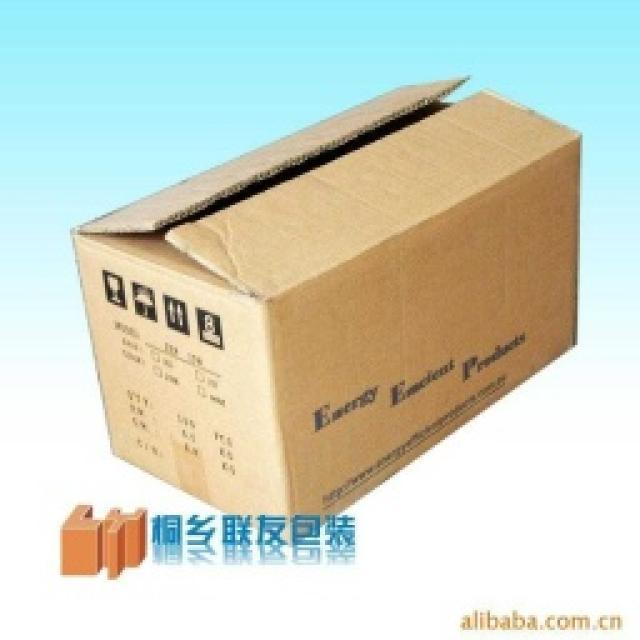box: (61, 72, 616, 534)
